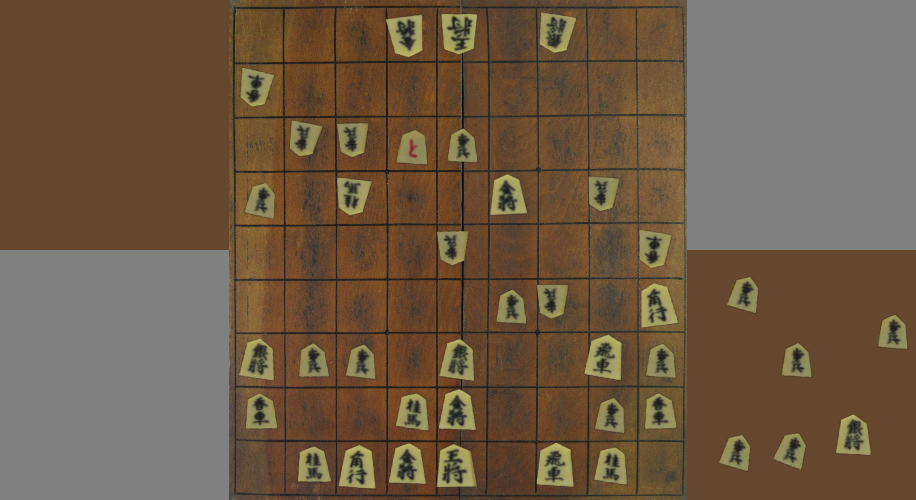A: (437, 446, 475, 487), (586, 336, 621, 379), (340, 446, 375, 488), (642, 285, 676, 327), (390, 444, 425, 484), (440, 391, 475, 429), (241, 340, 273, 379), (441, 341, 472, 380), (298, 447, 330, 482), (397, 395, 428, 429), (247, 395, 275, 428), (347, 346, 375, 379), (246, 184, 273, 218), (300, 344, 328, 376), (448, 130, 476, 162), (647, 345, 675, 377), (398, 131, 425, 164), (498, 291, 525, 323)
B: (387, 16, 422, 56), (541, 14, 575, 52), (443, 15, 476, 53), (338, 178, 371, 215), (241, 68, 272, 106), (641, 231, 671, 267), (291, 122, 321, 156), (338, 124, 368, 156), (438, 233, 467, 265), (538, 286, 567, 317), (590, 178, 618, 210)
C: (837, 416, 870, 455), (774, 434, 805, 469), (720, 436, 750, 470), (728, 278, 757, 312), (880, 316, 907, 349), (782, 345, 810, 376)
